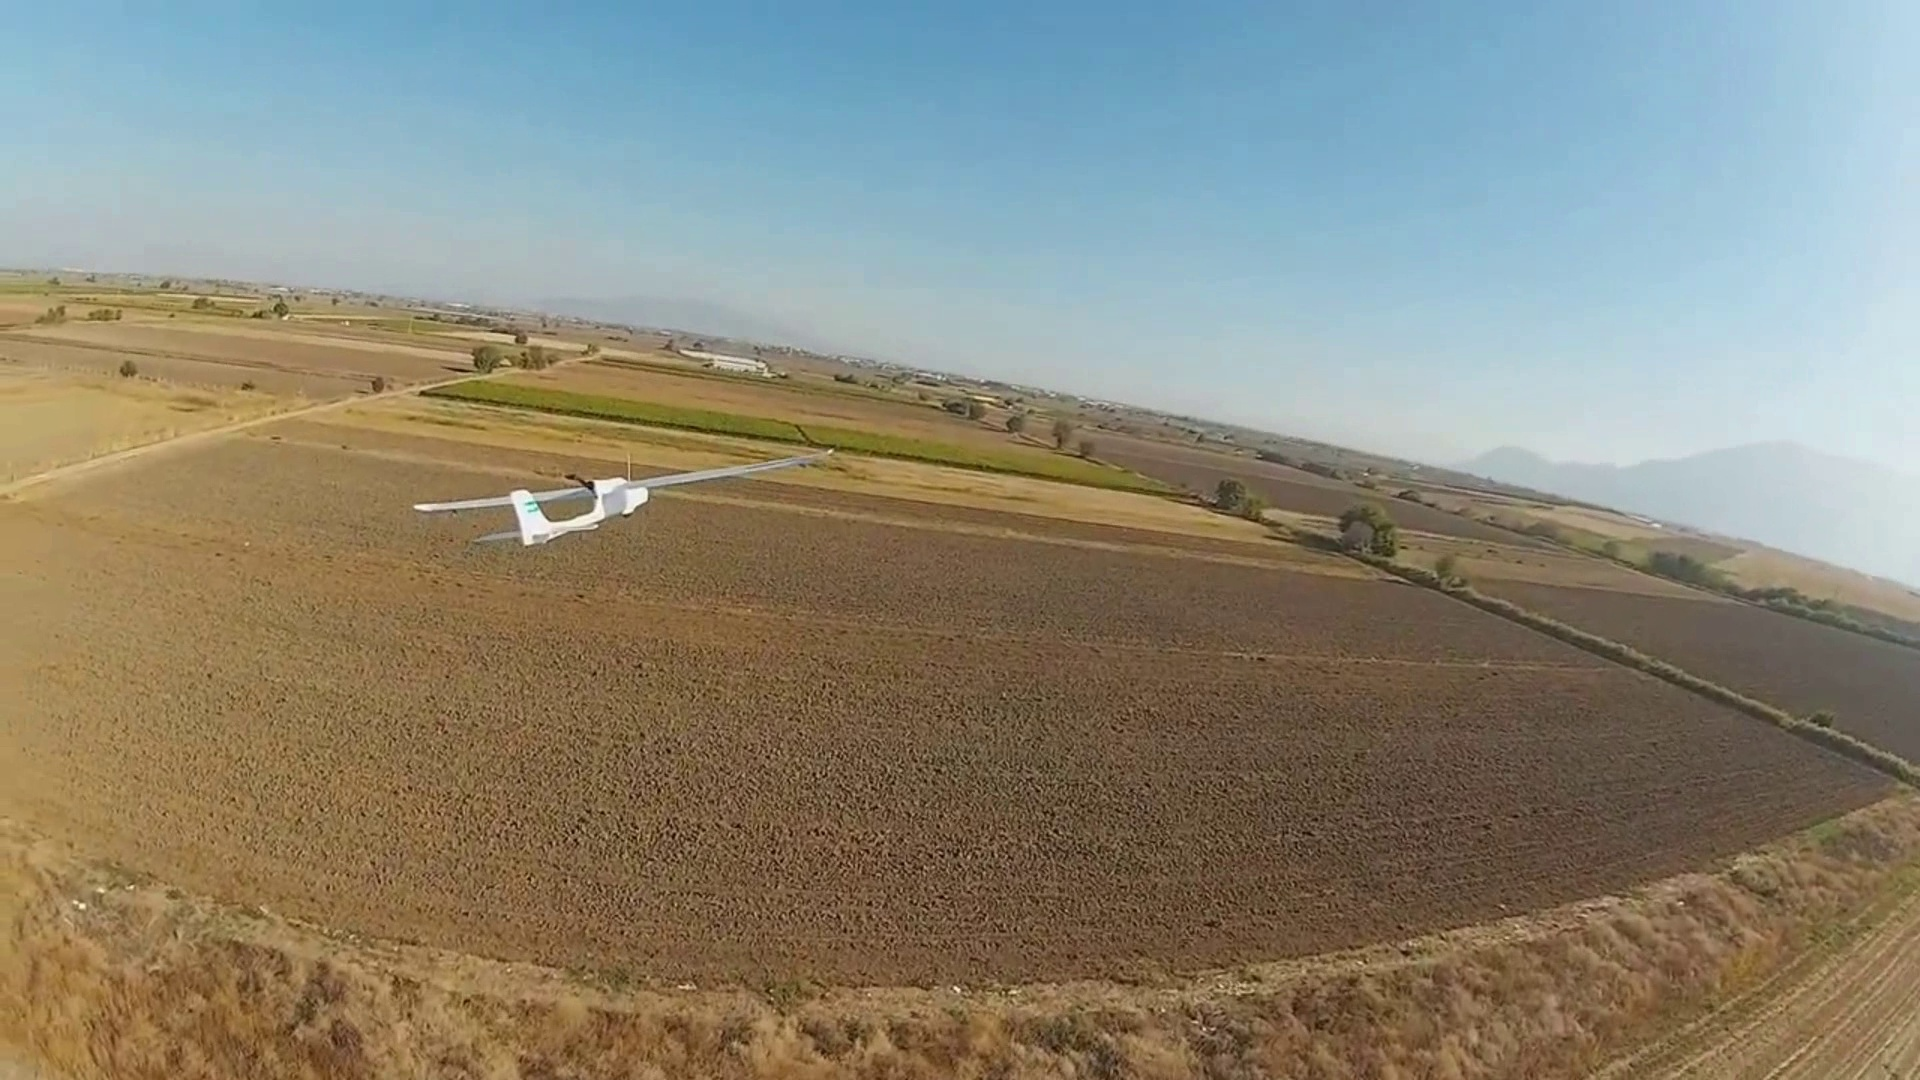airplane: (409, 474, 653, 548)
